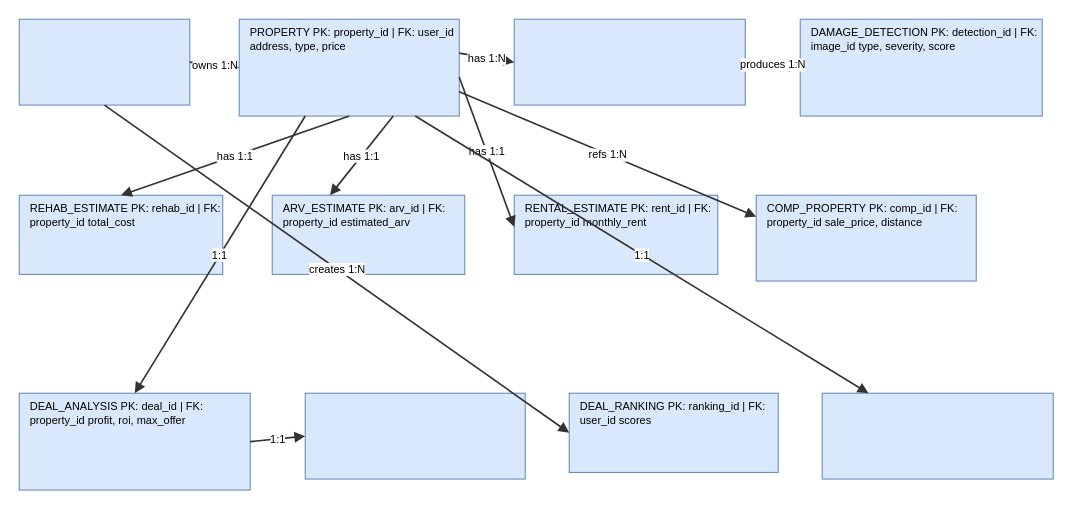
Image size: 1073x509. Some labels were removed from this diagram. The shapes that lost their labels are listed below. From the top down, each one's centre as x and y in pixels, then its label:
At (x=104, y=61): "USER PK: user_id email, role".
At (x=629, y=61): "PROPERTY_IMAGE PK: image_id | FK: property_id path, room_type".
At (x=414, y=435): "PROPERTY_REPORT PK: report_id FK: property_id, deal_id".
At (x=937, y=435): "NEIGHBORHOOD_DATA PK: neighborhood_id median_price, median_rent".
